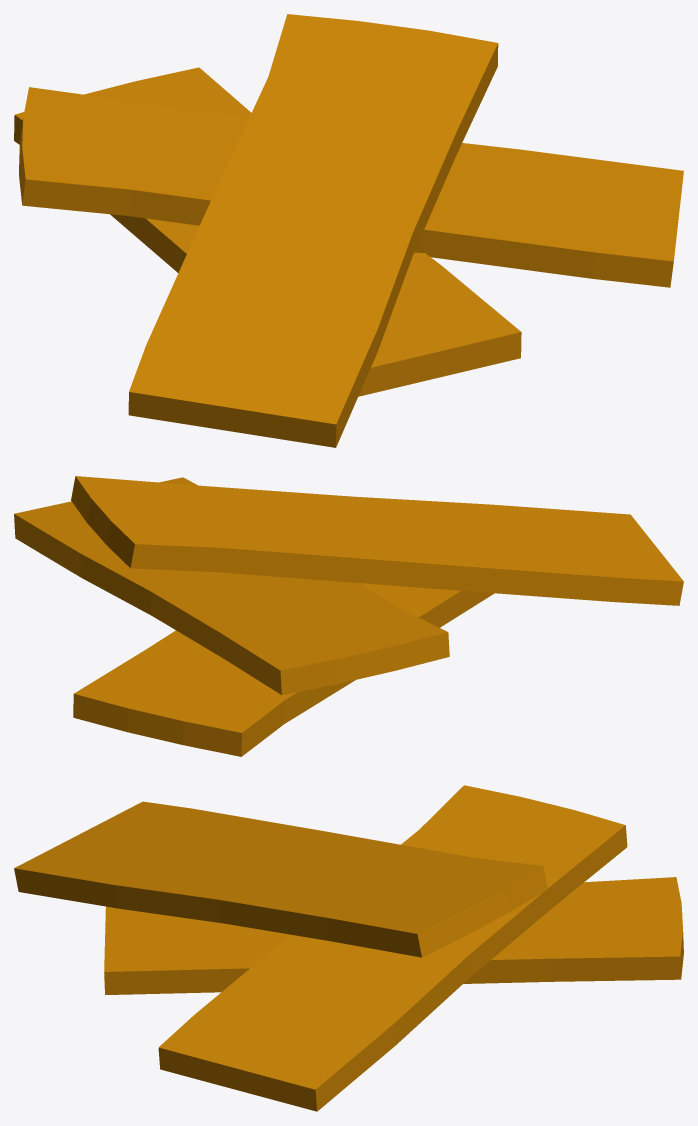
Rendered from Holzstapel.fbx.
The picture shows the model from 3 angles, top to bottom: view 1: azimuth 30°, elevation 25°; view 2: azimuth 150°, elevation 25°; view 3: azimuth 270°, elevation 25°; orthographic projection. The views are drawn at different scales.
Parts seen in each view (by area): view 1: Hundehuette.003; view 2: Hundehuette.003; view 3: Hundehuette.003.
Part boxes in pixels (x1,y1,x2,y2): Hundehuette.003: (14, 14, 683, 447); Hundehuette.003: (14, 476, 683, 756); Hundehuette.003: (14, 785, 683, 1111).
Size of the model in its own units: 192 by 43.83 by 195.
